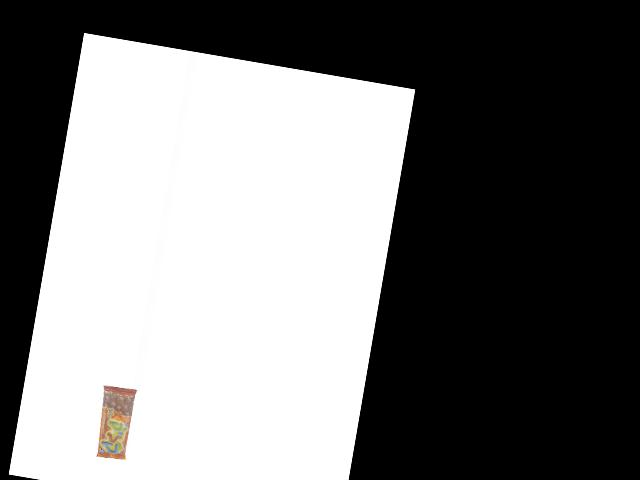chocolate: (93, 384, 137, 461)
